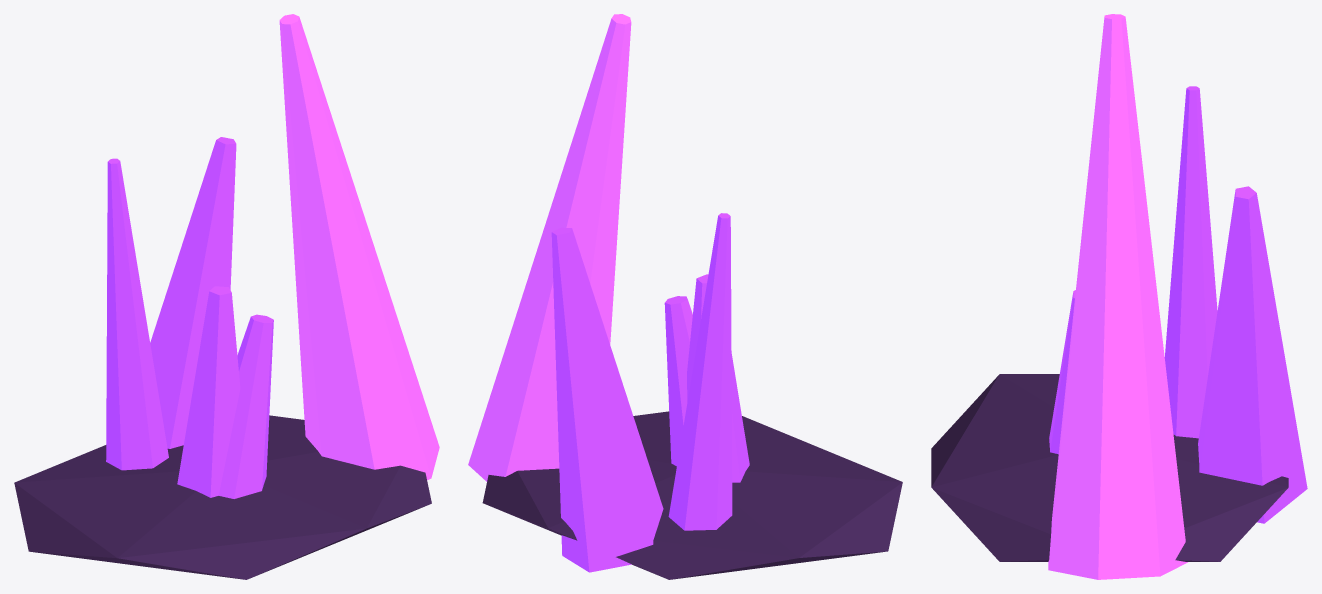
Rendered from mire_crystal_b.glb.
The picture shows the model from 3 angles, left to right: view 1: azimuth 30°, elevation 25°; view 2: azimuth 150°, elevation 25°; view 3: azimuth 270°, elevation 25°; orthographic projection. The views are drawn at different scales.
Parts seen in each view (by area): view 1: Mire_Base.001, Crystal_1.001, Crystal_2.001, Crystal_3.001, Crystal_4.001, Crystal_5.001; view 2: Mire_Base.001, Crystal_1.001, Crystal_2.001, Crystal_3.001, Crystal_5.001, Crystal_4.001; view 3: Crystal_1.001, Mire_Base.001, Crystal_2.001, Crystal_3.001, Crystal_5.001.
Part boxes in pixels (x1,y1,x2,y2): Mire_Base.001: (14,415,431,579); Crystal_1.001: (279,14,439,480); Crystal_2.001: (150,137,236,448); Crystal_3.001: (106,158,168,470); Crystal_4.001: (177,286,240,497); Crystal_5.001: (218,314,273,498); Mire_Base.001: (482,411,902,579); Crystal_1.001: (468,14,631,481); Crystal_2.001: (551,227,663,572); Crystal_3.001: (668,213,732,530); Crystal_5.001: (664,296,692,466); Crystal_4.001: (687,274,749,482); Crystal_1.001: (1048,14,1187,579); Mire_Base.001: (931,374,1288,561); Crystal_2.001: (1198,186,1307,523); Crystal_3.001: (1164,86,1217,438); Crystal_5.001: (1049,290,1075,454).
Size of the model in its own units: 1.72 by 1.95 by 1.29.
